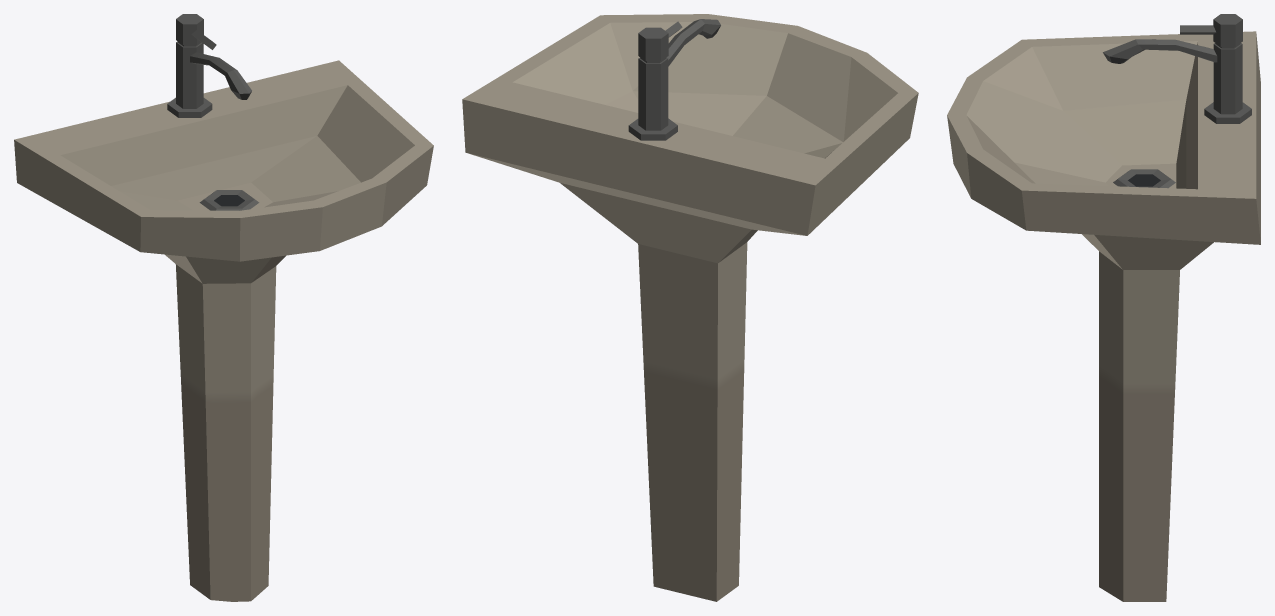
Rendered from SM_Prop_Sink_01.fbx.
The picture shows the model from 3 angles, left to right: view 1: azimuth 30°, elevation 25°; view 2: azimuth 150°, elevation 25°; view 3: azimuth 270°, elevation 25°; orthographic projection. The views are drawn at different scales.
Parts seen in each view (by area): view 1: SM_Prop_Sink_01; view 2: SM_Prop_Sink_01; view 3: SM_Prop_Sink_01.
Part boxes in pixels (bbox=[...]): SM_Prop_Sink_01: bbox=[14, 14, 433, 601]; SM_Prop_Sink_01: bbox=[462, 14, 918, 601]; SM_Prop_Sink_01: bbox=[947, 14, 1260, 601].
Bounding box in the file's own units: 77.76 × 123 × 61.59.
